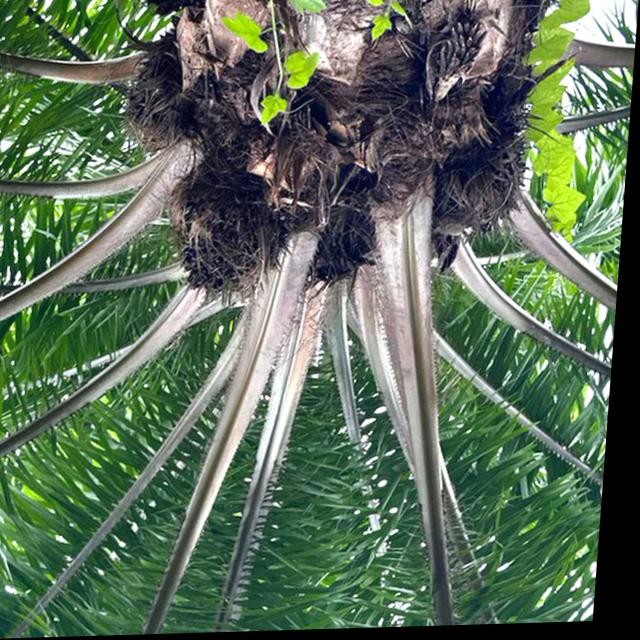unripe: (167, 176, 307, 316), (113, 44, 235, 161)
